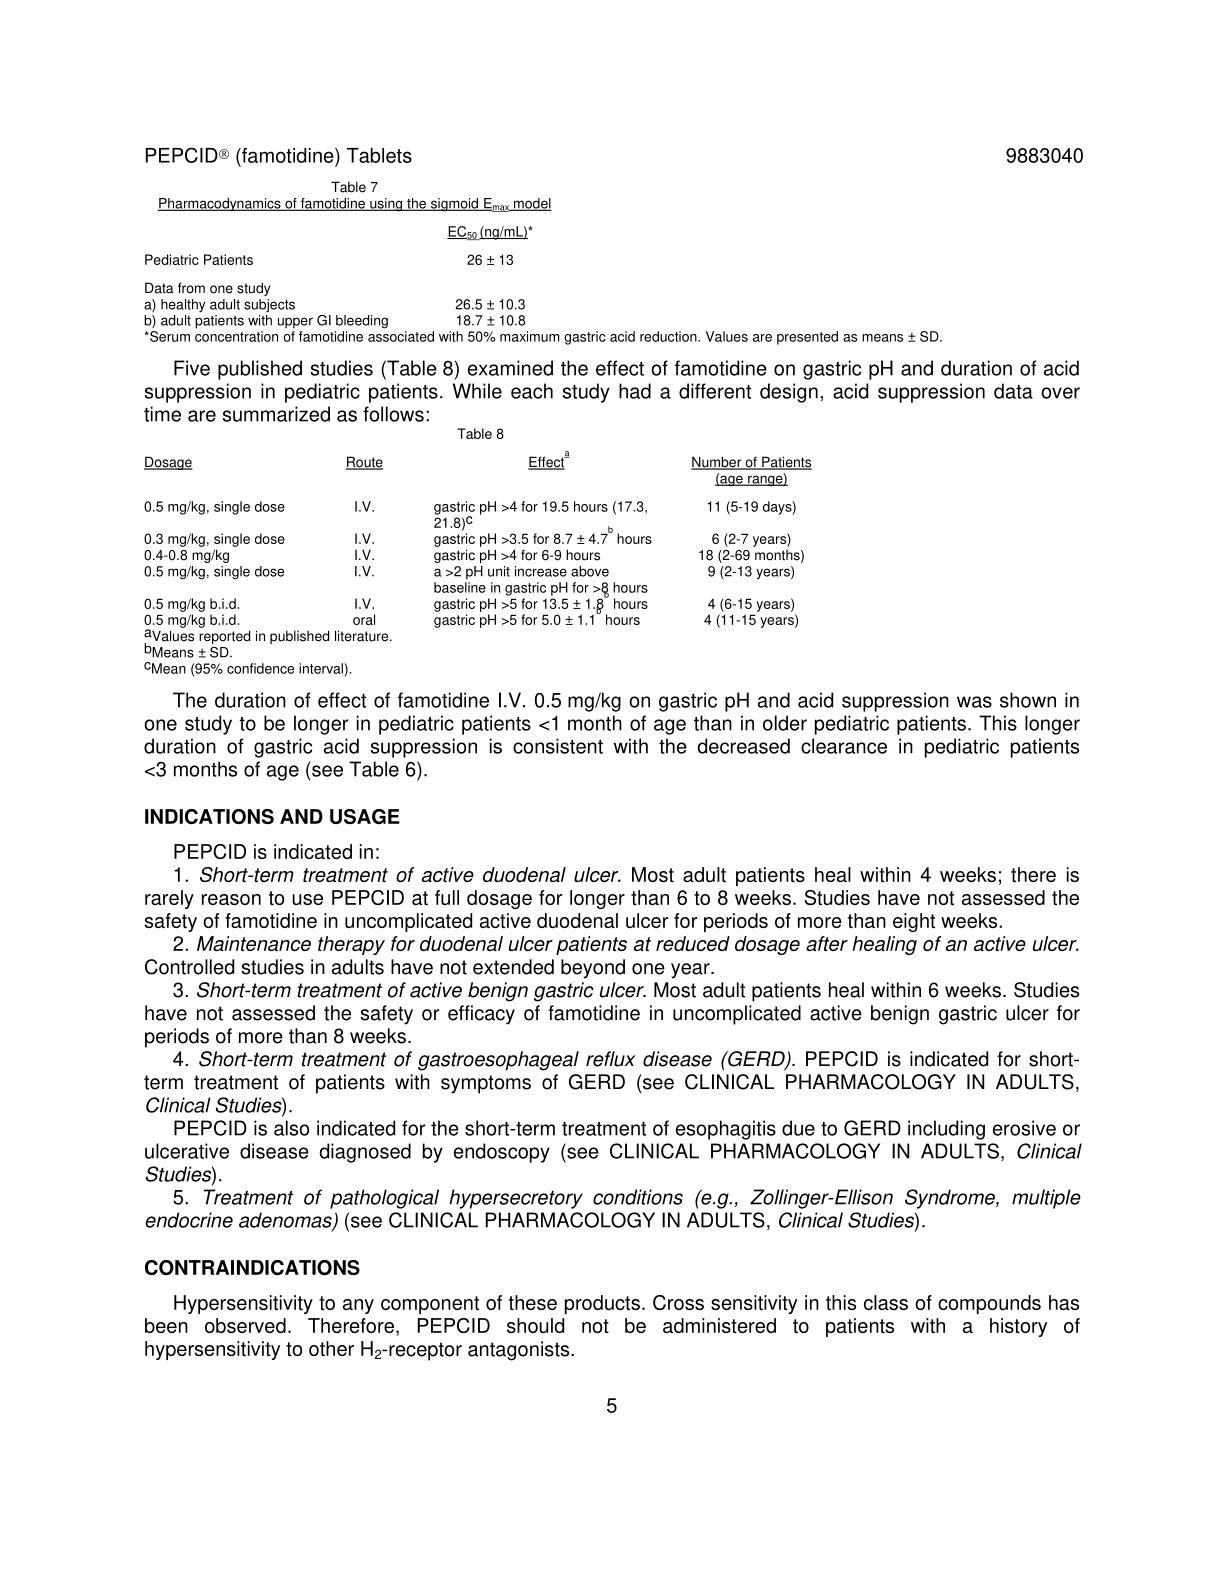nolines: (141, 449, 816, 627), (141, 222, 534, 327)
